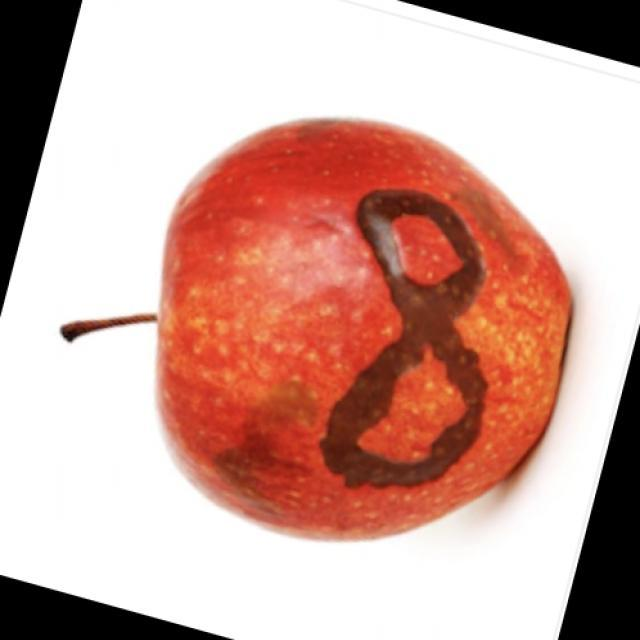Rotten: (155, 118, 570, 537)
